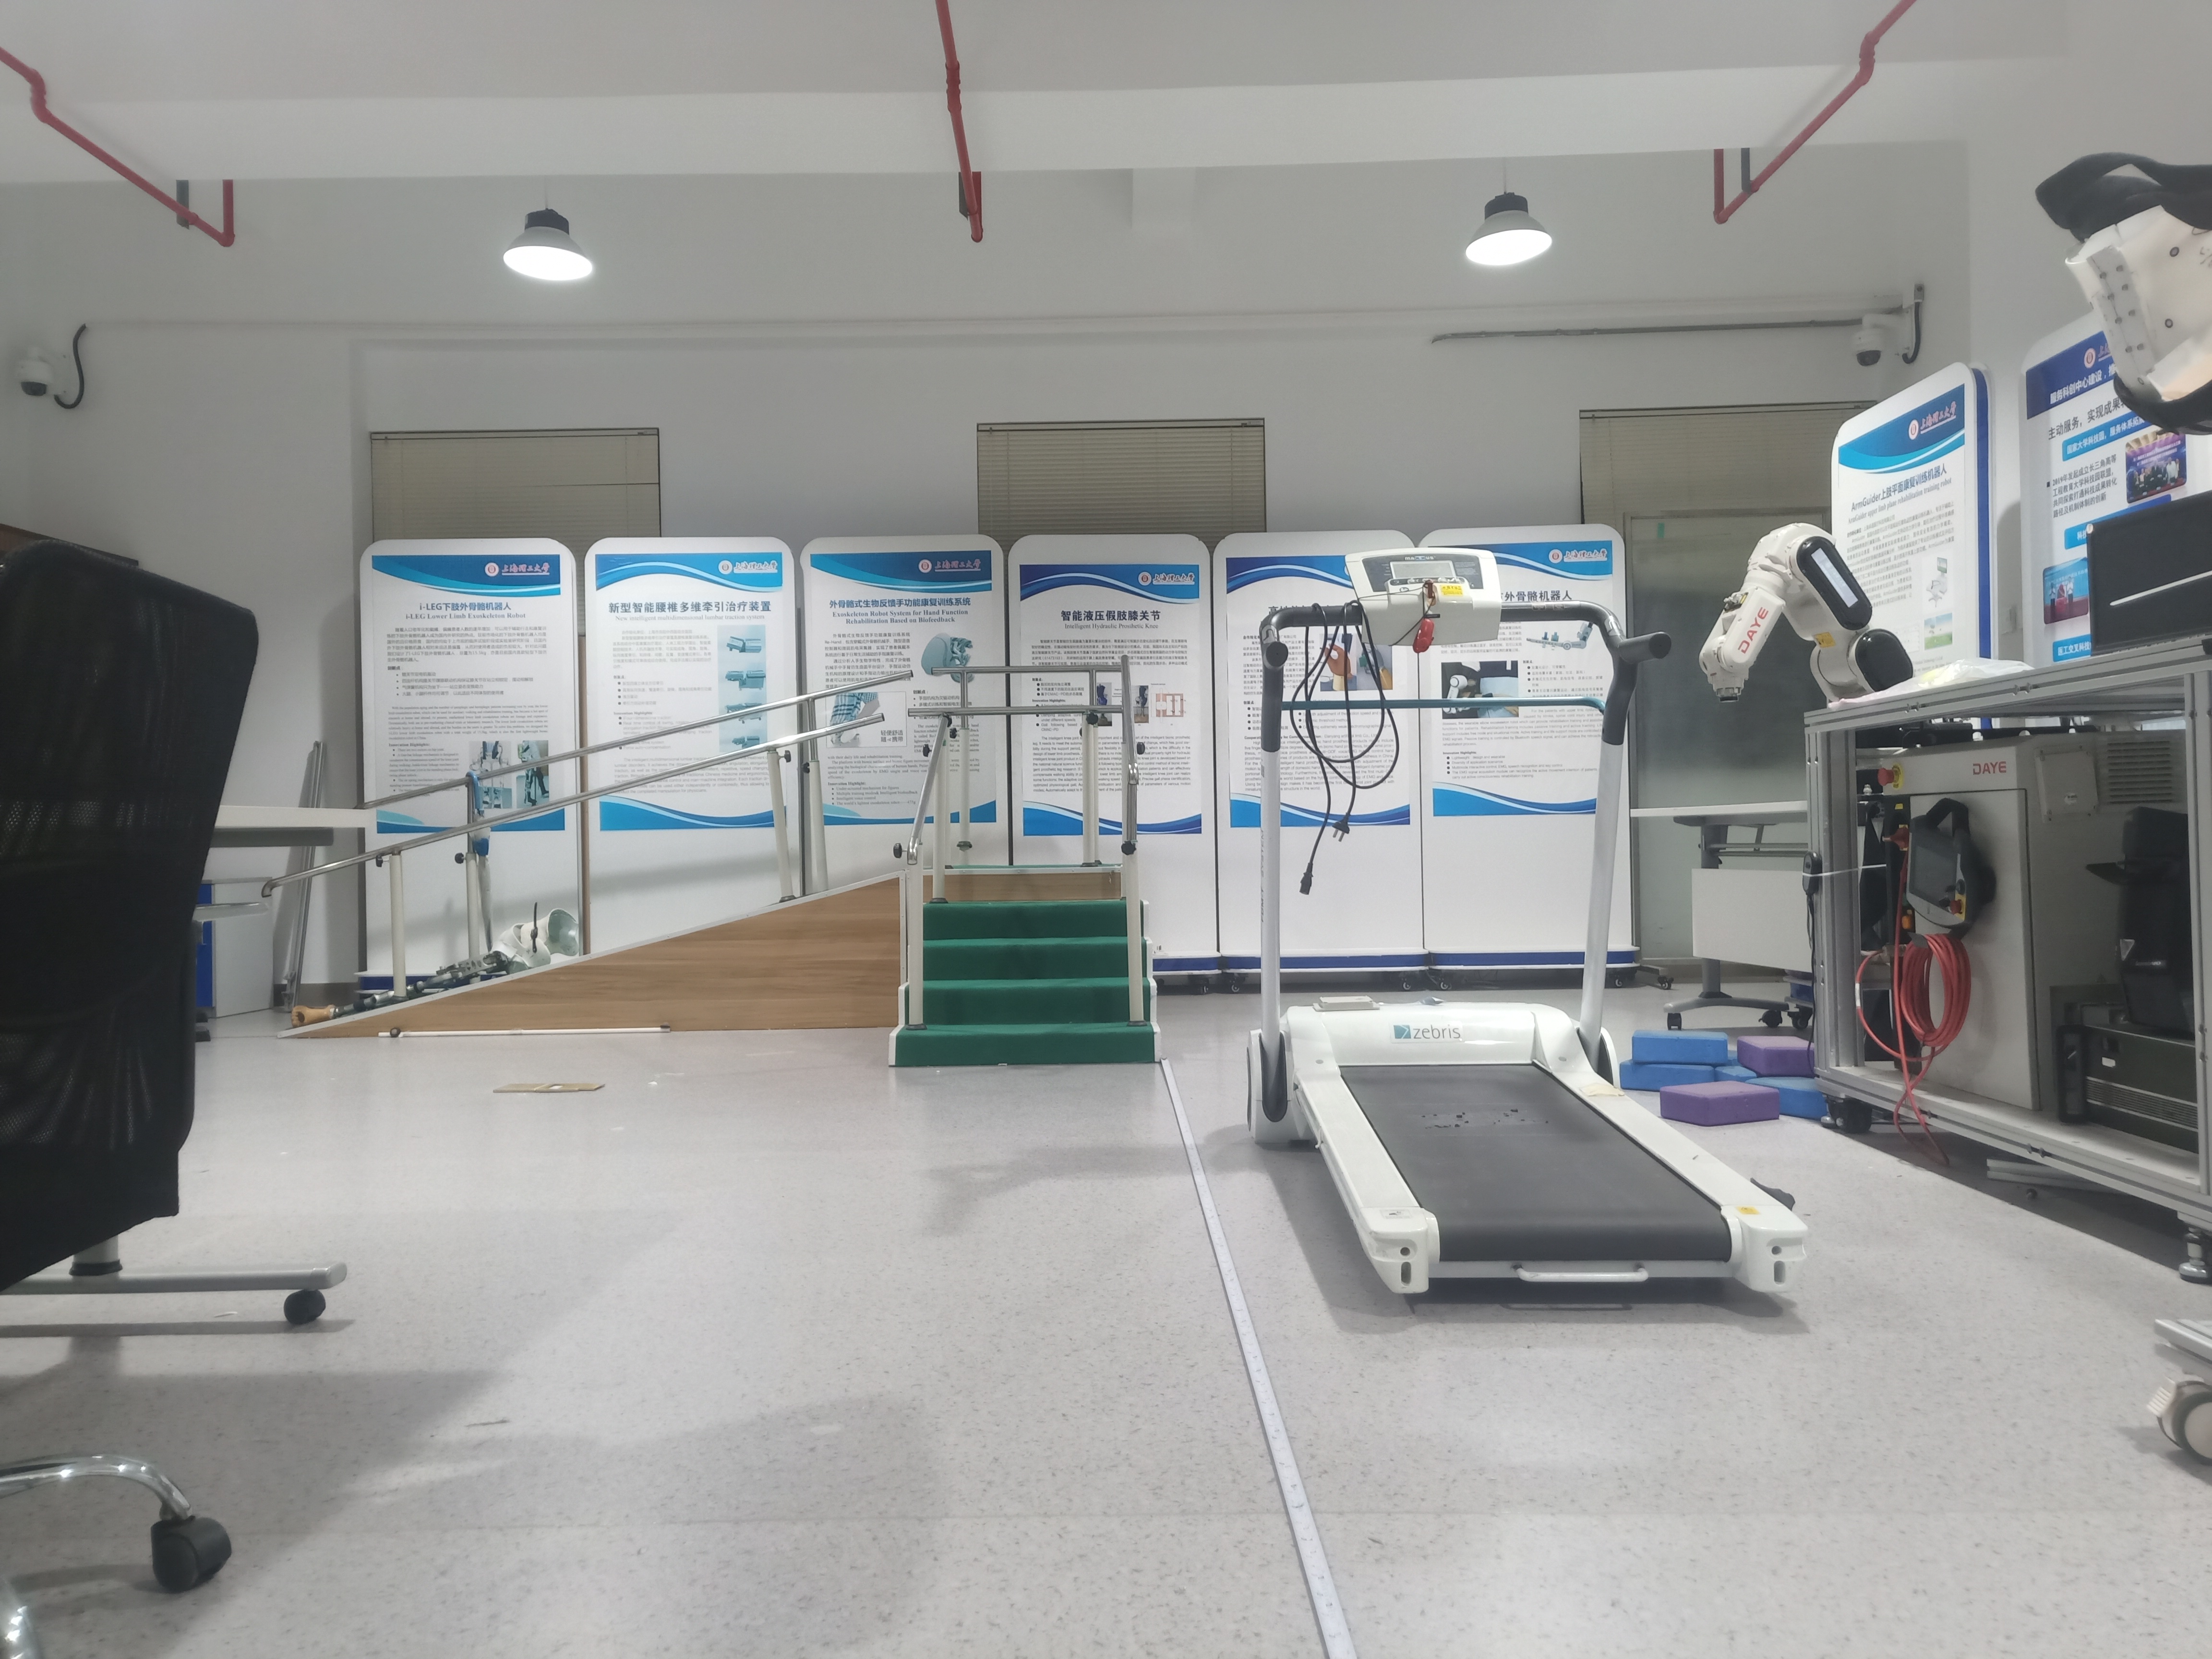stairs: (888, 861, 1162, 1068)
